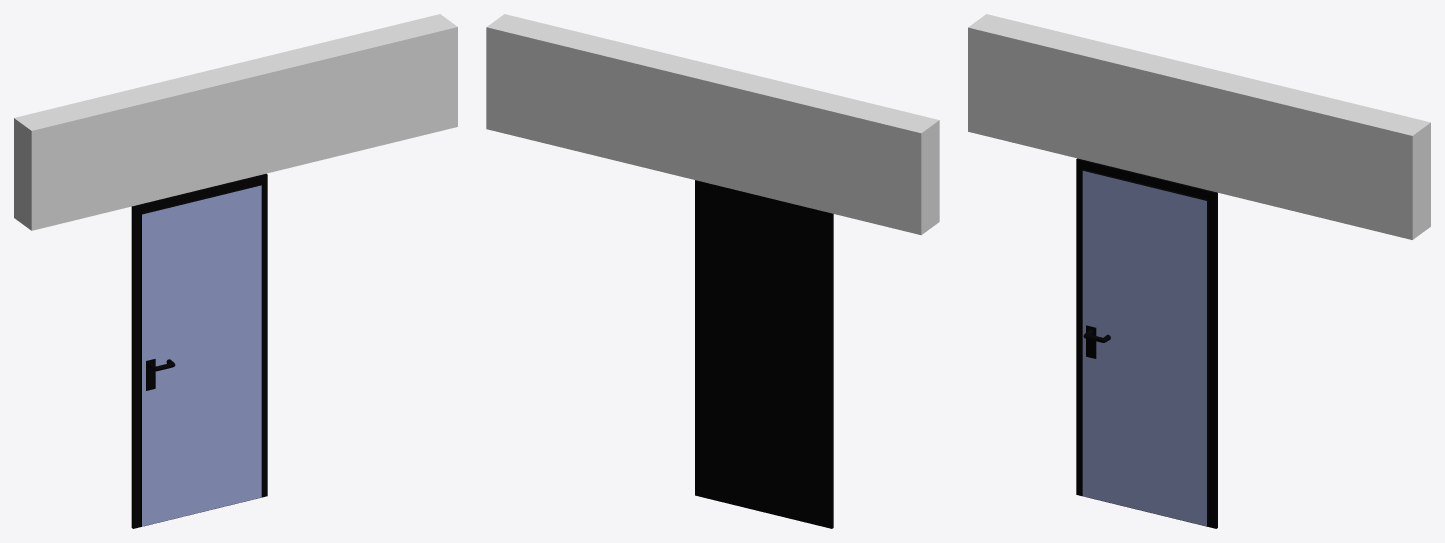
Rendered from entree.FBX.
The picture shows the model from 3 angles, left to right: view 1: azimuth 30°, elevation 25°; view 2: azimuth 150°, elevation 25°; view 3: azimuth 330°, elevation 25°; orthographic projection. The views are drawn at different scales.
Visible parts, largest first — view 1: Box569573, ÄÂÅÐÜ; view 2: Box569573, ÄÂÅÐÜ; view 3: Box569573, ÄÂÅÐÜ.
Boxes of the visible parts, x1,y1,x2,y2 form: Box569573: [14, 14, 457, 230]; ÄÂÅÐÜ: [131, 173, 267, 528]; Box569573: [486, 14, 939, 235]; ÄÂÅÐÜ: [695, 180, 833, 528]; Box569573: [968, 14, 1430, 239]; ÄÂÅÐÜ: [1076, 158, 1217, 528].
Bounding box in the file's own units: 4724 × 4489 × 469.
